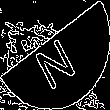N_NW: (30, 22, 80, 88)
